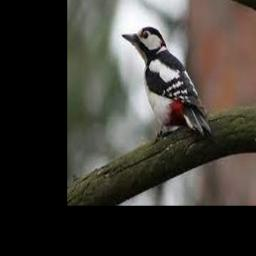Woodpecker: (121, 27, 211, 142)
